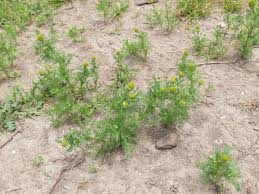pineple: (27, 27, 138, 114), (147, 71, 243, 164)
